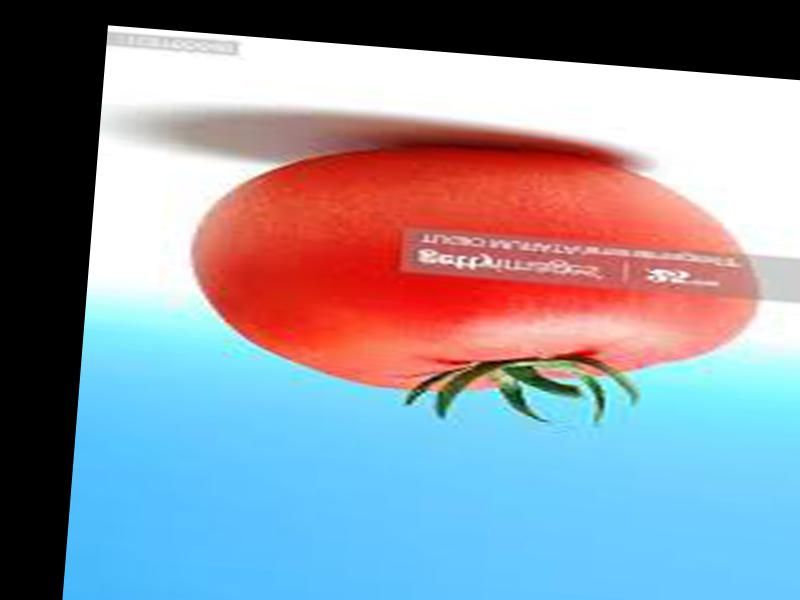Tomato: (186, 128, 772, 416)
